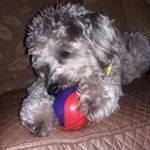puppy: (16, 1, 150, 140)
